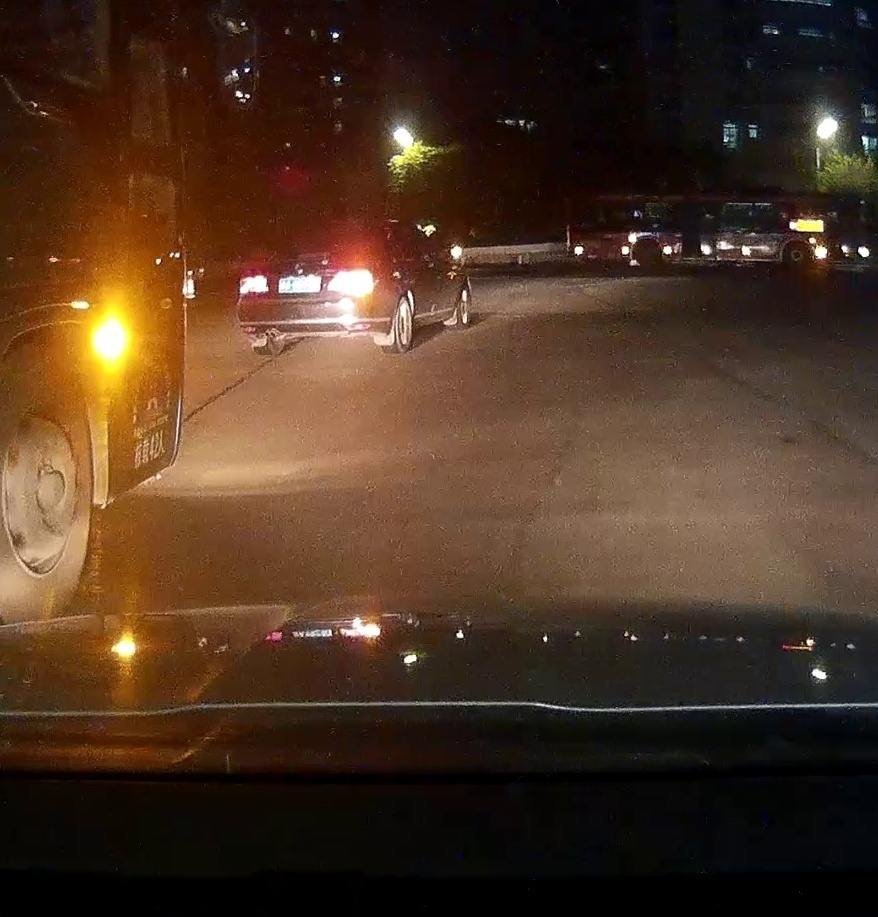L_light: (239, 274, 268, 294)
R_light: (333, 270, 374, 292)
T_light: (302, 218, 327, 224)
night-no: (235, 213, 386, 354)
